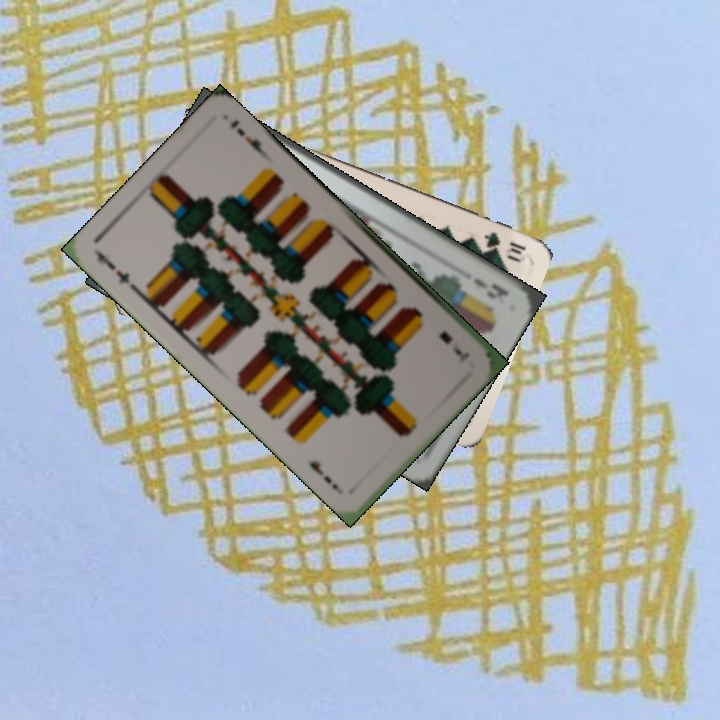E7: (92, 248, 140, 294), (435, 327, 472, 365)
EK: (468, 274, 511, 302)
G10: (480, 228, 529, 263)
